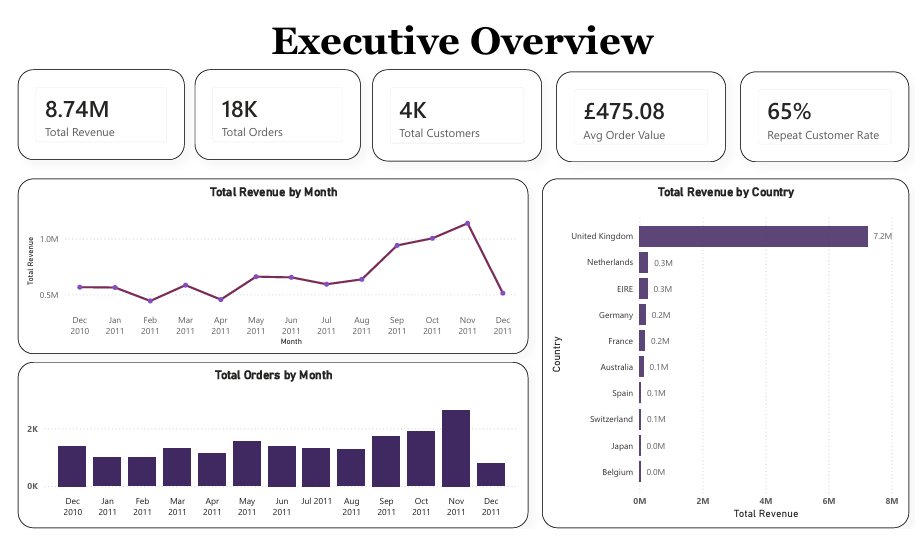

The page's visual inventory and layout, read from the dashboard file:
{"tool":"powerbi","page":{"name":"Executive_Overview","canvas":[1280,720],"ordinal":0},"visuals":[{"type":"textbox","box":[9.5,0,1270.4,79.4],"z":0},{"type":"cardVisual","fields":{"Data":["_Measures.Total Revenue"]},"box":[22.2,76.2,233.4,127],"z":1000},{"type":"cardVisual","fields":{"Data":["_Measures.Total Orders"]},"box":[270,76.2,233.4,127],"z":2000},{"type":"cardVisual","fields":{"Data":["_Measures.Total Customers"]},"box":[519.3,76.2,238.2,128.6],"z":3000},{"type":"cardVisual","fields":{"Data":["_Measures.Avg Order Value"]},"box":[776.5,79.4,238.2,127],"z":4000},{"type":"cardVisual","fields":{"Data":["_Measures.Repeat Customer Rate"]},"box":[1035.4,79.4,236.6,127],"z":5000},{"type":"lineChart","fields":{"Category":["Calendar.Month"],"Y":["_Measures.Total Revenue"]},"box":[22.2,228.7,716.2,246.1],"z":6000},{"type":"columnChart","fields":{"Category":["Calendar.Month"],"Y":["_Measures.Total Orders"]},"box":[22.2,485.9,716.2,233.4],"z":7000},{"type":"clusteredBarChart","title":"Total Revenue by Country","fields":{"Category":["Transactions.country"],"Y":["_Measures.Total Revenue"]},"box":[757.5,228.7,514.5,490.7],"z":8000}]}

Visuals, with their boxes in screenshot pixels (x1, y1, x2, y2):
textbox: region(7, 12, 911, 69)
cardVisual - _Measures.Total Revenue: region(16, 66, 182, 157)
cardVisual - _Measures.Total Orders: region(192, 66, 358, 157)
cardVisual - _Measures.Total Customers: region(370, 66, 539, 158)
cardVisual - _Measures.Avg Order Value: region(553, 69, 722, 159)
cardVisual - _Measures.Repeat Customer Rate: region(737, 69, 906, 159)
lineChart - Calendar.Month x _Measures.Total Revenue: region(16, 175, 526, 350)
columnChart - Calendar.Month x _Measures.Total Orders: region(16, 358, 526, 524)
"Total Revenue by Country" clusteredBarChart: region(539, 175, 906, 524)
